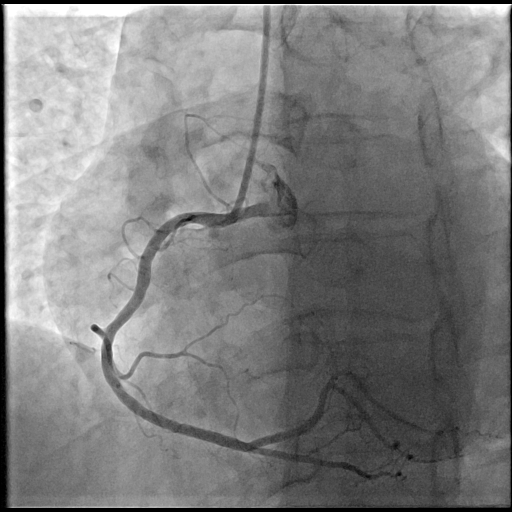RCA: (91, 213, 343, 467)
catherter: (230, 5, 270, 215)
